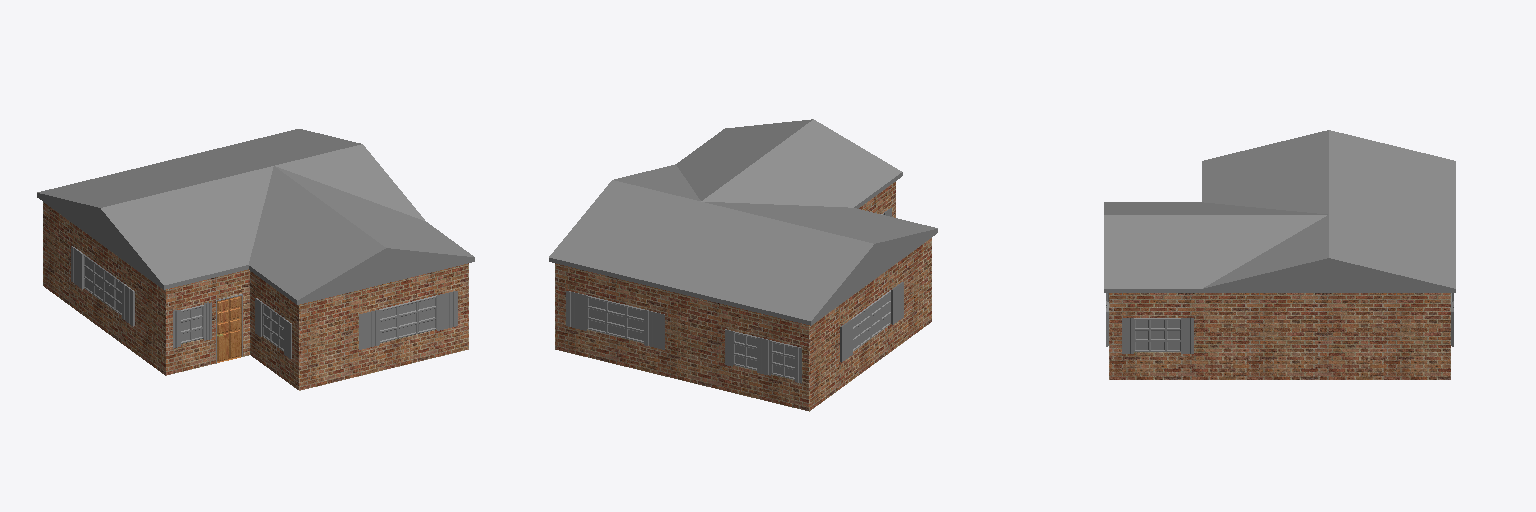
3 views of the same model, side by side, from view 1: azimuth 30°, elevation 25°; view 2: azimuth 150°, elevation 25°; view 3: azimuth 270°, elevation 25° (orthographic).
Visible parts, largest first — view 1: House; view 2: House; view 3: House.
Boxes of the visible parts, <box> form: House: <box>37,129,474,390</box>; House: <box>549,119,937,411</box>; House: <box>1104,130,1455,379</box>.
Size of the model in its own units: 372 by 168 by 432.
Materials: 11 (2 with a texture image).